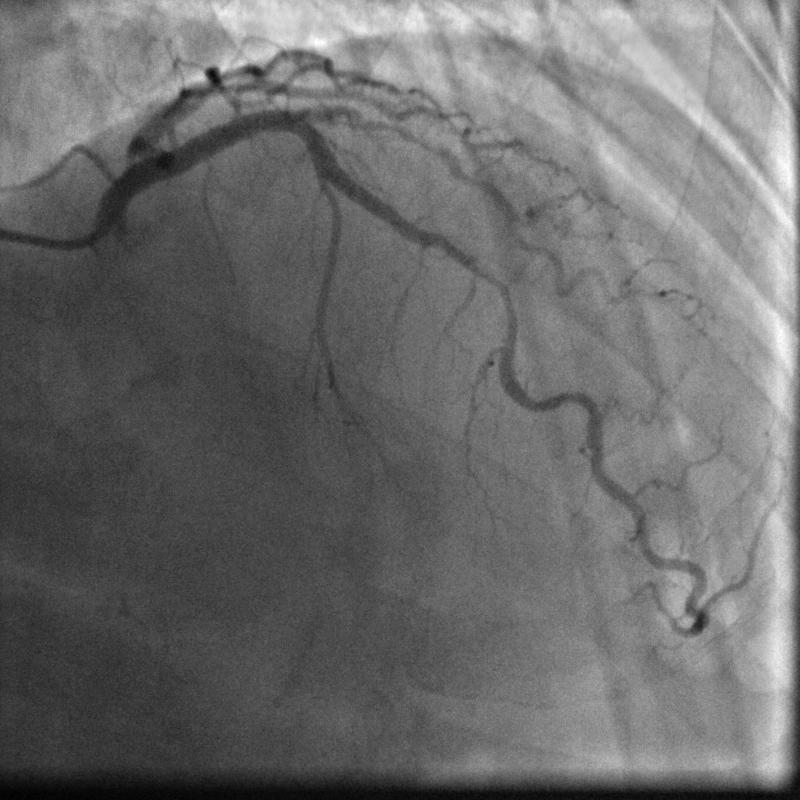Stenosis: (458, 250, 520, 334)
